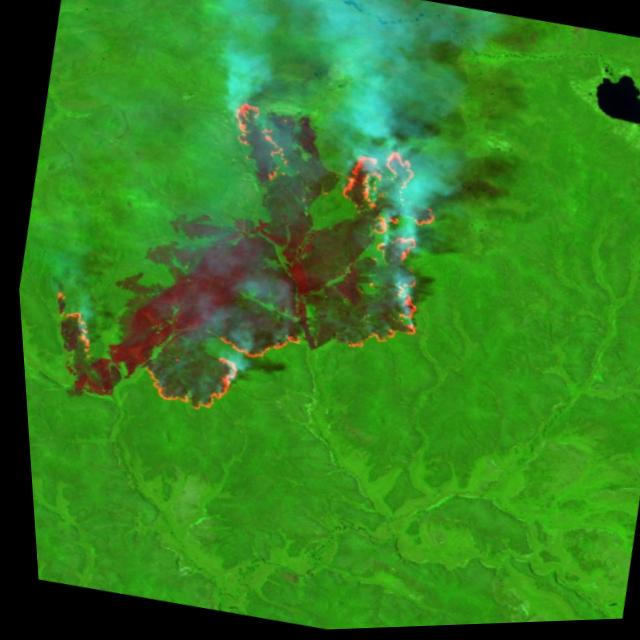fire: (18, 59, 471, 460)
